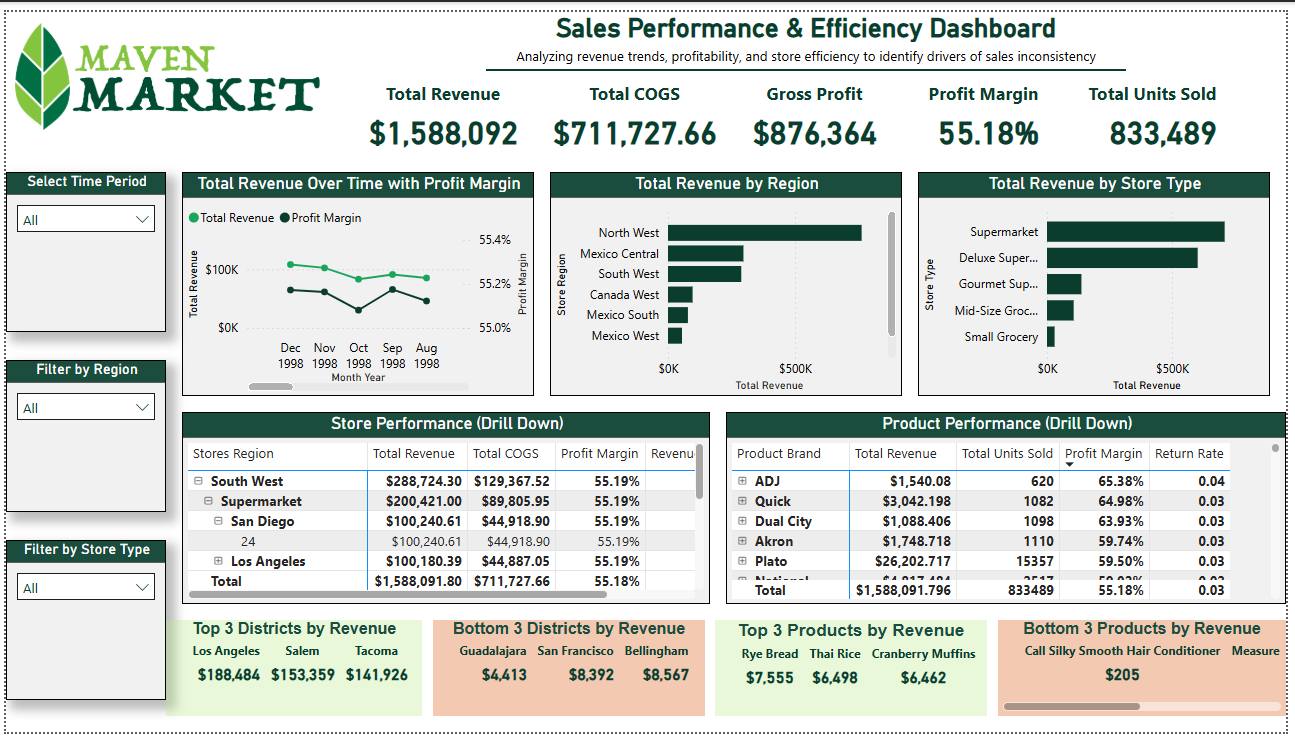

The page's visual inventory and layout, read from the dashboard file:
{"tool":"powerbi","page":{"name":"Sales Performance & Efficiency Dashboard","canvas":[1280,720],"ordinal":0},"visuals":[{"type":"pivotTable","title":"Total Revenue","fields":{"Values":["Measures Table.Total Units Sold"]},"box":[1056,64,184,96],"z":3000},{"type":"pivotTable","title":"Total Revenue","fields":{"Values":["Measures Table.Gross Profit"]},"box":[712,64,176,96],"z":4000},{"type":"pivotTable","title":"Total Revenue","fields":{"Values":["Measures Table.Profit Margin"]},"box":[884,64,176,96],"z":5000},{"type":"lineChart","title":"Total Revenue Over Time with Profit Margin","fields":{"Y":["Measures Table.Total Revenue"],"Category":["Calendar.Month Year"],"Y2":["Measures Table.Profit Margin"]},"box":[176,160,352,224],"z":6000},{"type":"slicer","title":"Select Time Period","fields":{"Values":["Calendar.Month Year"]},"box":[0,160,160,160],"z":7000},{"type":"pivotTable","title":"Store Performance (Drill Down)","fields":{"Rows":["Regions.sales_region","Stores.store_type","Regions.sales_district","Stores.store_id"],"Values":["Measures Table.Total Revenue","Measures Table.Total COGS","Measures Table.Profit Margin","Measures Table.Revenue per Sq Ft"]},"box":[176,400,528,192],"z":9000},{"type":"slicer","title":"Filter by Region","fields":{"Values":["Regions.sales_region"]},"box":[0,348,160,152],"z":12000},{"type":"slicer","title":"Filter by Store Type","fields":{"Values":["Stores.store_type"]},"box":[0,528,160,160],"z":13000},{"type":"pivotTable","title":"Total Revenue","fields":{"Values":["Measures Table.Total COGS"]},"box":[524,64,192,96],"z":14000},{"type":"barChart","title":"Total Revenue by Region","fields":{"Category":["Regions.sales_region"],"Y":["Measures Table.Total Revenue"]},"box":[544,160,352,224],"z":14003},{"type":"barChart","title":"Total Revenue by Store Type","fields":{"Y":["Measures Table.Total Revenue"],"Category":["Stores.store_type"]},"box":[912,160,352,224],"z":14004},{"type":"textbox","title":"       Sales Performance & Efficiency Dashboard","box":[480,0,640,64],"z":14005},{"type":"pivotTable","title":"Product Performance (Drill Down)","fields":{"Values":["Measures Table.Total Revenue","Measures Table.Total Units Sold","Measures Table.Profit Margin","Measures Table.Return Rate"],"Rows":["Products.product_brand","Products.product_name"]},"box":[720,400,560,192],"z":14006},{"type":"pivotTable","title":"Total Revenue","fields":{"Values":["Measures Table.Total Revenue"]},"box":[336,64,192,96],"z":14007},{"type":"pivotTable","title":"Top 3 Districts by Revenue","fields":{"Values":["Measures Table.Total Revenue"],"Columns":["Regions.sales_district"]},"box":[160,608,256,96],"z":14009},{"type":"pivotTable","title":"Bottom 3 Districts by Revenue","fields":{"Values":["Measures Table.Total Revenue"],"Columns":["Regions.sales_district"]},"box":[426.7,608,272,96],"z":14010},{"type":"pivotTable","title":"Top 3 Products by Revenue","fields":{"Values":["Measures Table.Total Revenue"],"Columns":["Products.Clean Product Name"]},"box":[709.3,608,272,96],"z":14011},{"type":"pivotTable","title":"Bottom 3 Products by Revenue","fields":{"Values":["Measures Table.Total Revenue"],"Columns":["Products.Clean Product Name"]},"box":[992,608,288,96],"z":14012},{"type":"image","box":[0,0,320,128],"z":14013}]}

Visuals, with their boxes in screenshot pixels (x1, y1, x2, y2), scaled from the page's 1280x720 canvas onto the 1295x742 screenshot:
"Total Revenue" pivotTable: 1068 66 1255 165
"Total Revenue" pivotTable: 720 66 898 165
"Total Revenue" pivotTable: 894 66 1072 165
"Total Revenue Over Time with Profit Margin" lineChart: 178 165 534 396
"Select Time Period" slicer: 0 165 162 330
"Store Performance (Drill Down)" pivotTable: 178 412 712 610
"Filter by Region" slicer: 0 359 162 515
"Filter by Store Type" slicer: 0 544 162 709
"Total Revenue" pivotTable: 530 66 724 165
"Total Revenue by Region" barChart: 550 165 906 396
"Total Revenue by Store Type" barChart: 923 165 1279 396
"       Sales Performance & Efficiency Dashboard" textbox: 486 0 1133 66
"Product Performance (Drill Down)" pivotTable: 728 412 1294 610
"Total Revenue" pivotTable: 340 66 534 165
"Top 3 Districts by Revenue" pivotTable: 162 627 421 726
"Bottom 3 Districts by Revenue" pivotTable: 432 627 707 726
"Top 3 Products by Revenue" pivotTable: 718 627 993 726
"Bottom 3 Products by Revenue" pivotTable: 1004 627 1294 726
image: 0 0 324 132
